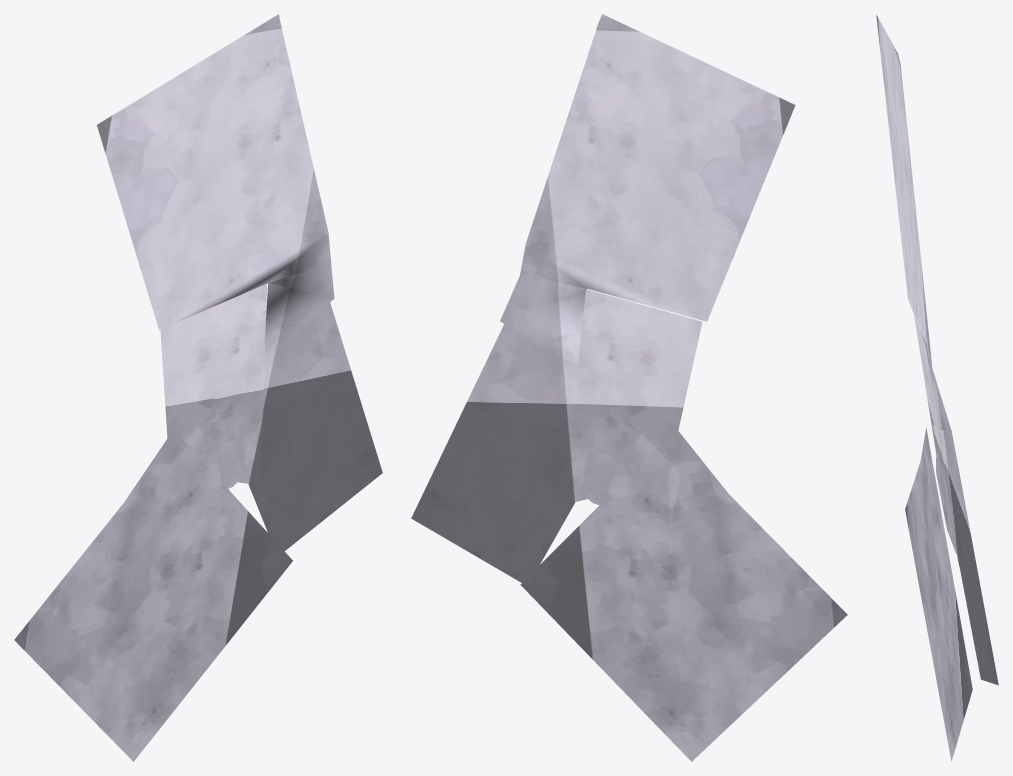
Rendered from SM_WorktopCollider_01.fbx.
3 views of the same model, side by side, from view 1: azimuth 30°, elevation 25°; view 2: azimuth 150°, elevation 25°; view 3: azimuth 270°, elevation 25° (orthographic). The views are drawn at different scales.
Visible parts, largest first — view 1: SM_WorktopCollider_01; view 2: SM_WorktopCollider_01; view 3: SM_WorktopCollider_01.
Boxes of the visible parts, x1,y1,x2,y2 form: SM_WorktopCollider_01: (14,14,382,761); SM_WorktopCollider_01: (411,14,847,761); SM_WorktopCollider_01: (876,14,998,761).
Size of the model in its own units: 293 by 500 by 72.22.
1 material, 1 textured.
